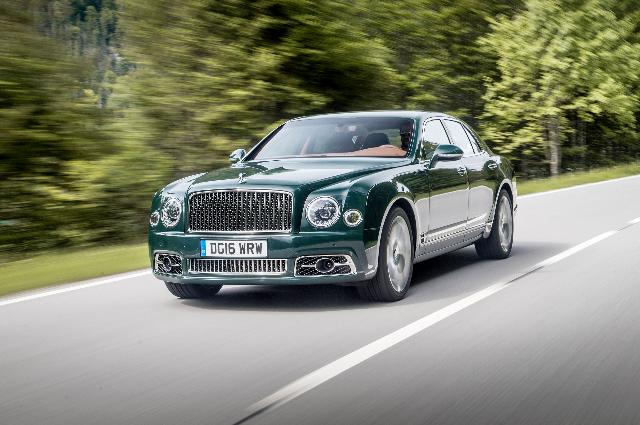bentley: (148, 111, 518, 303)
